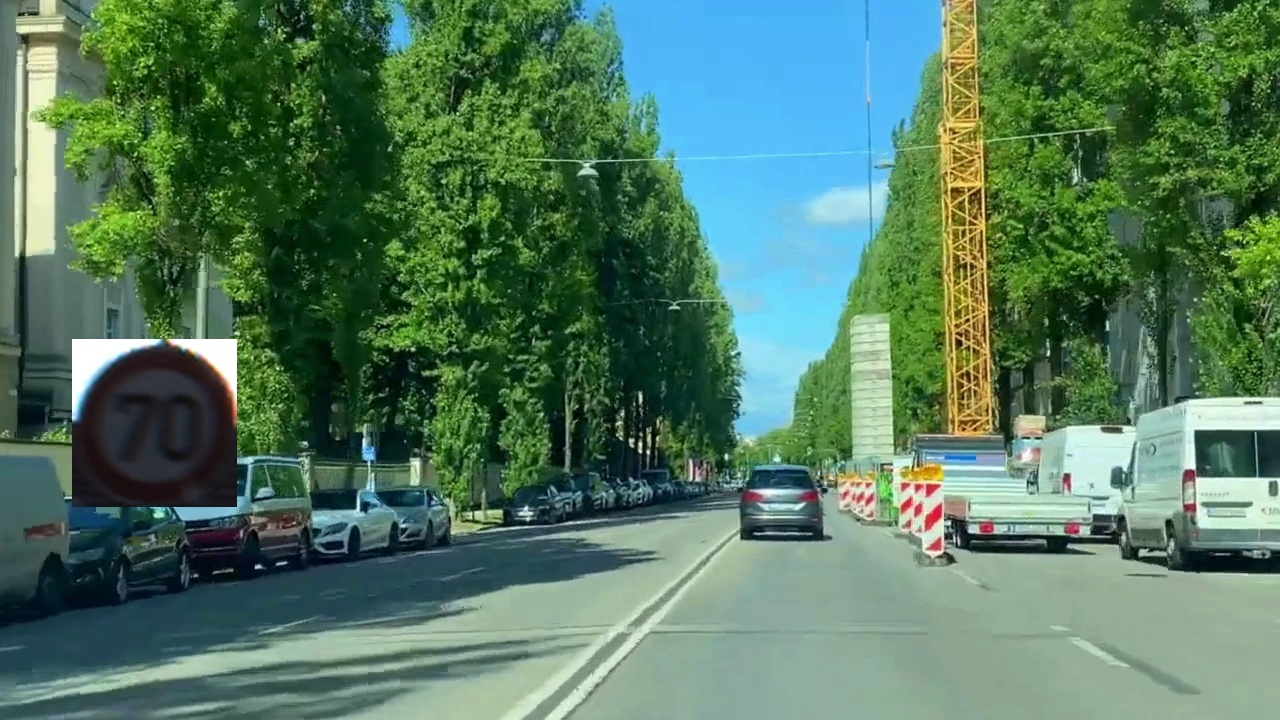Speed 70: (72, 339, 237, 507)
